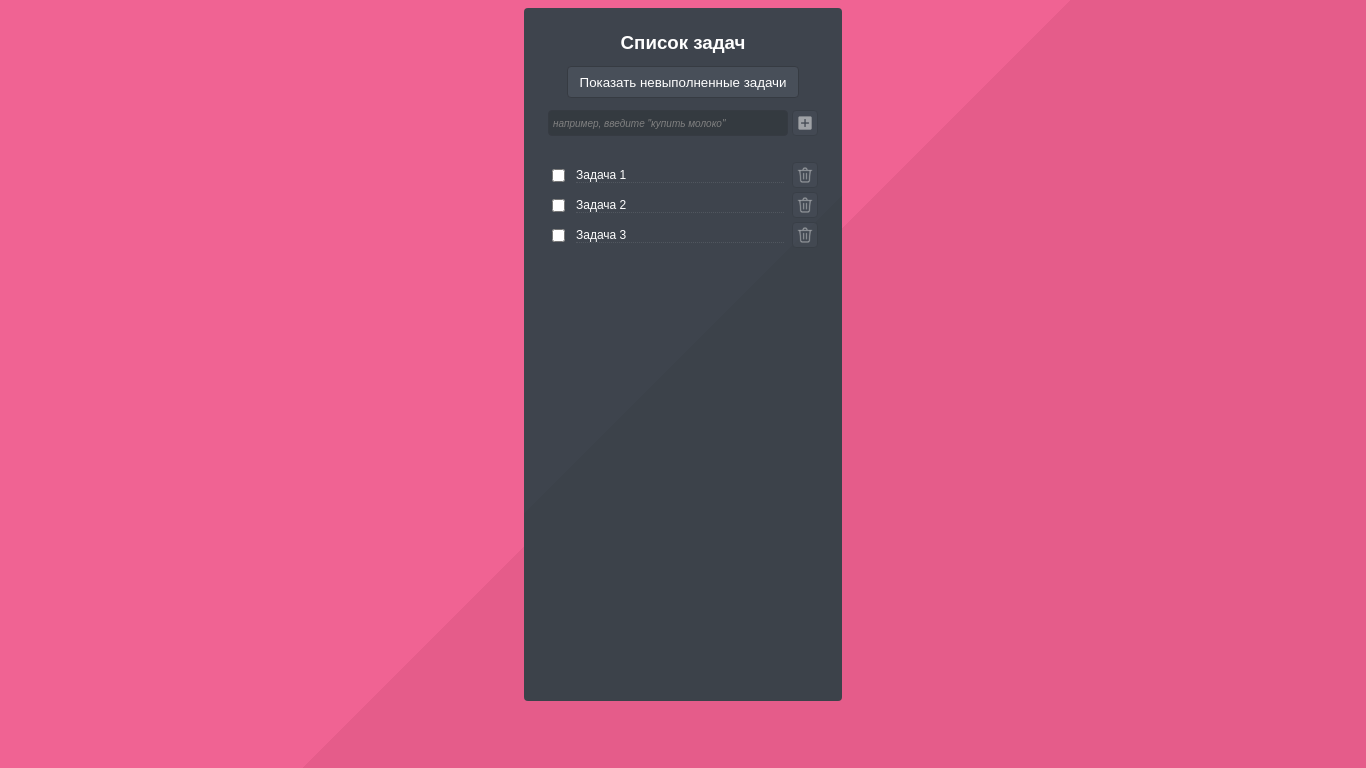
Test: Список задач › с включенным фильтром
Click the button with test id "filter-button": (683, 82) top-left (566, 66), bottom-right (799, 98)
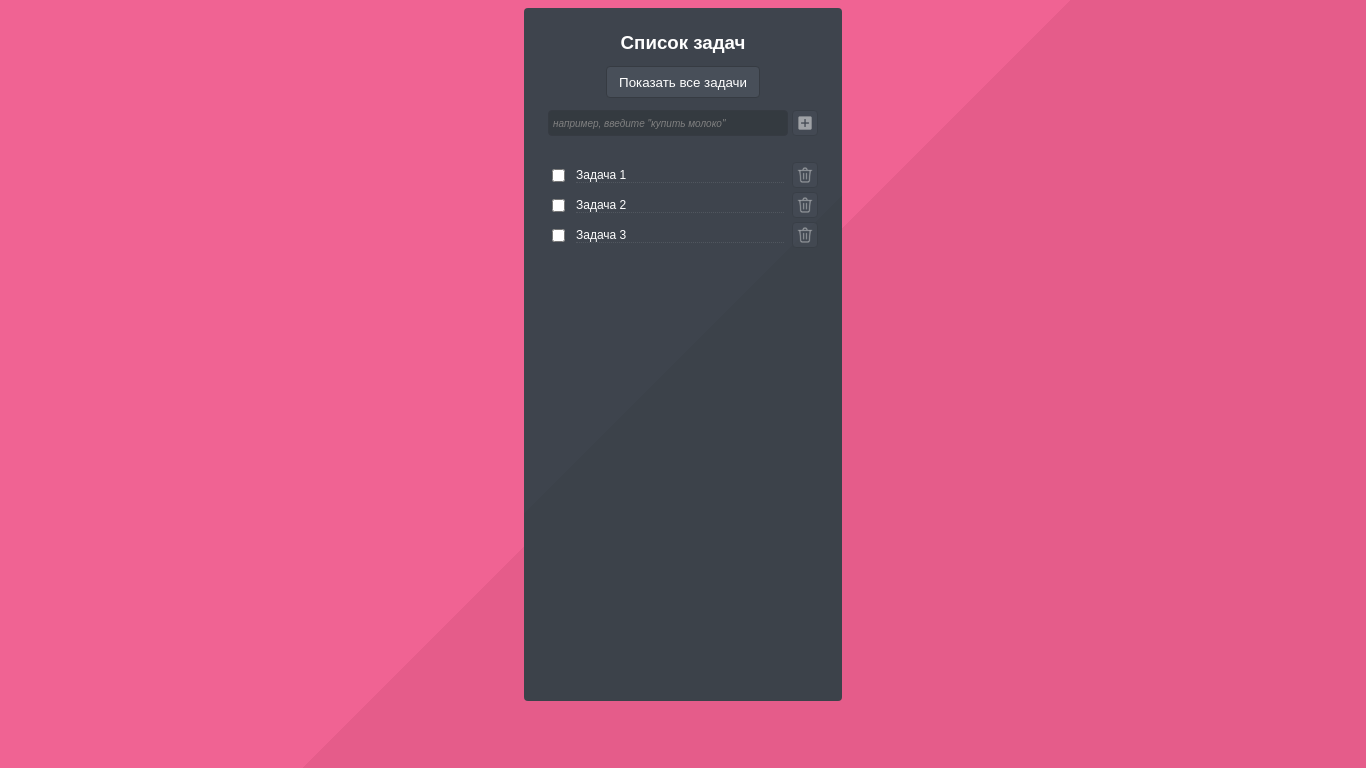
expect the checkbox labelled "Задача 1" is not checked: met, box top-left (552, 168), bottom-right (565, 182)
expect the button with test id "filter-button" reads "Показать все задачи": met, box top-left (606, 66), bottom-right (760, 98)
